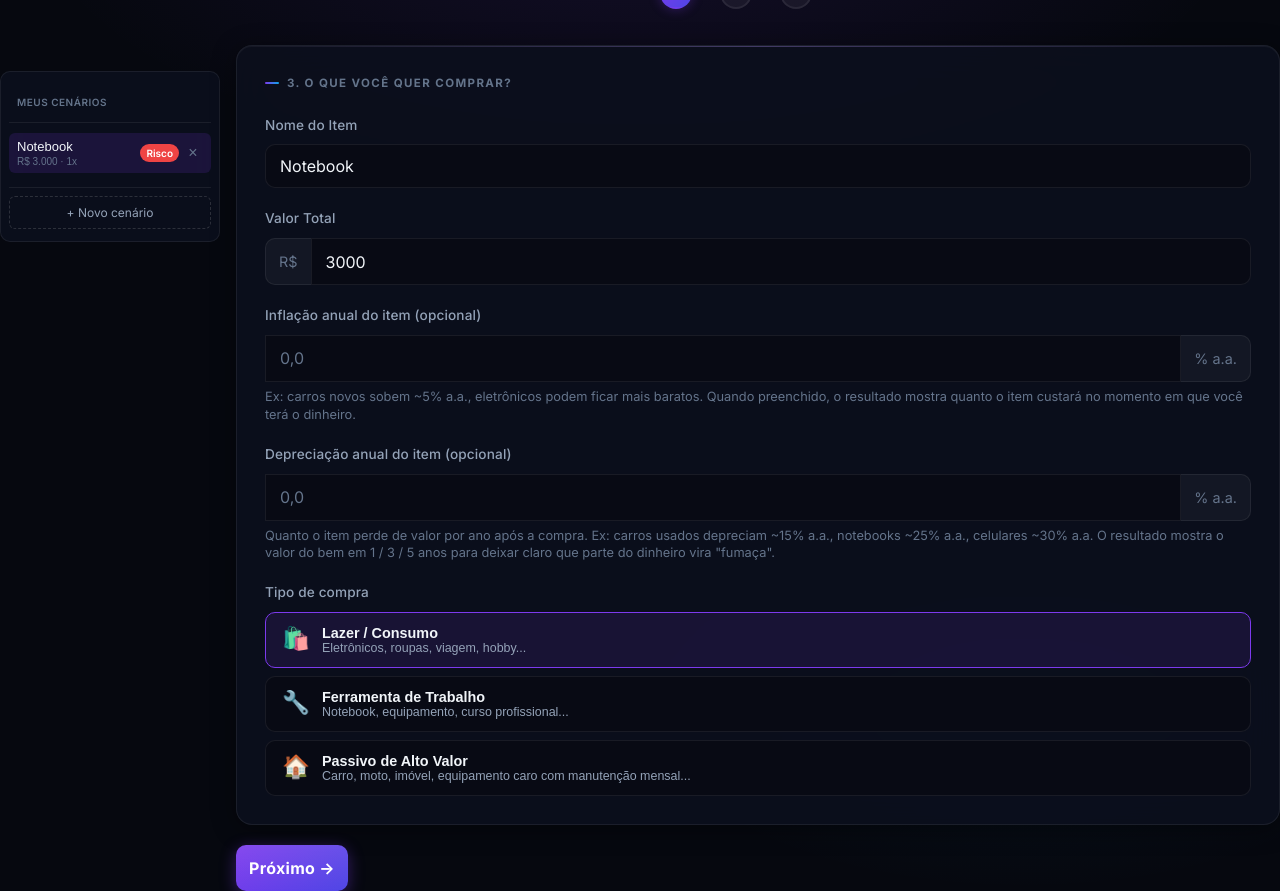
CenariosPage stepper › avança para Step 2 (Estratégia) ao clicar em Próximo
(page scrolled)
Click the button "Próximo →" at (292, 868), box [236,845,348,890]
(page scrolled)
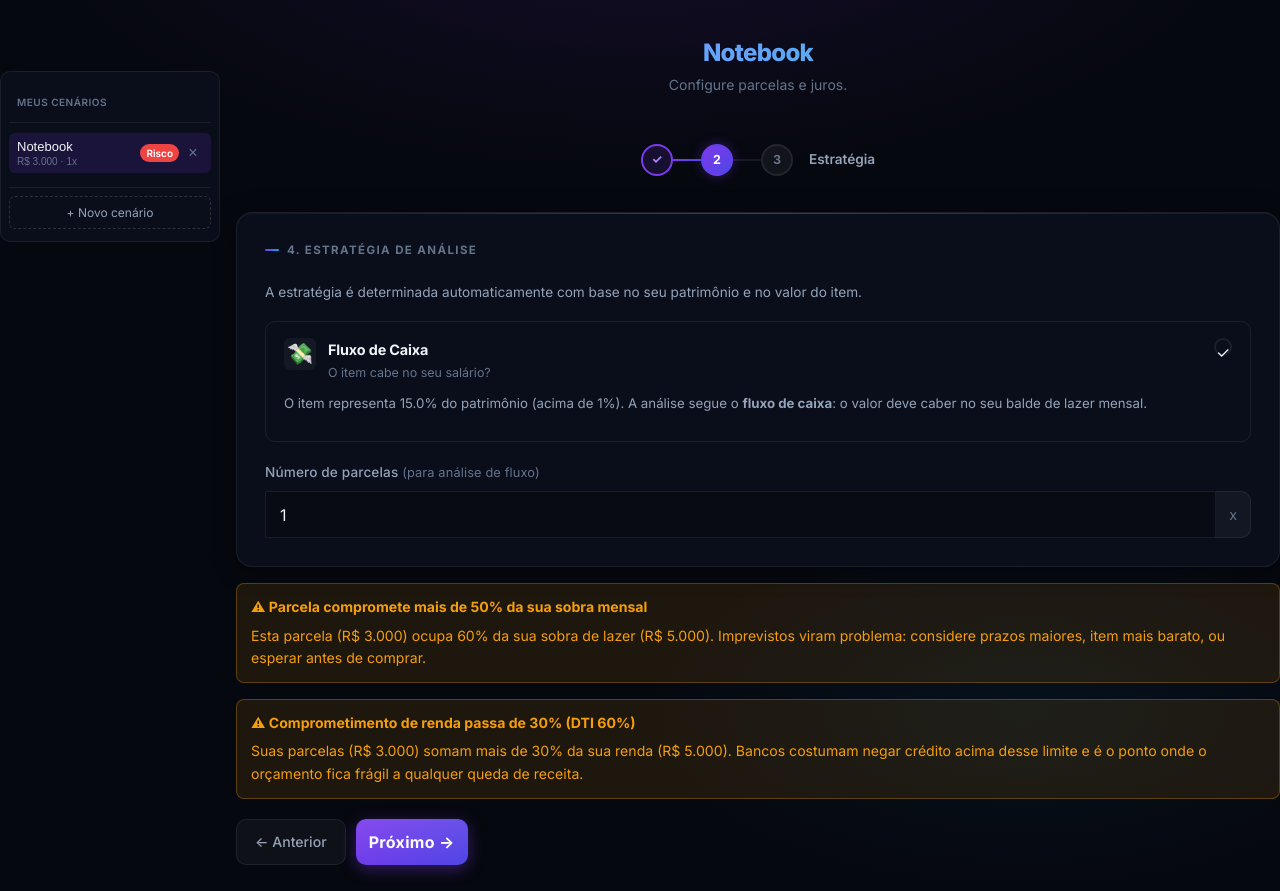
Expected: the text "Estratégia" is shown, [809,149,875,171]
Expected: the button "← Anterior" is shown, [236,818,346,864]
